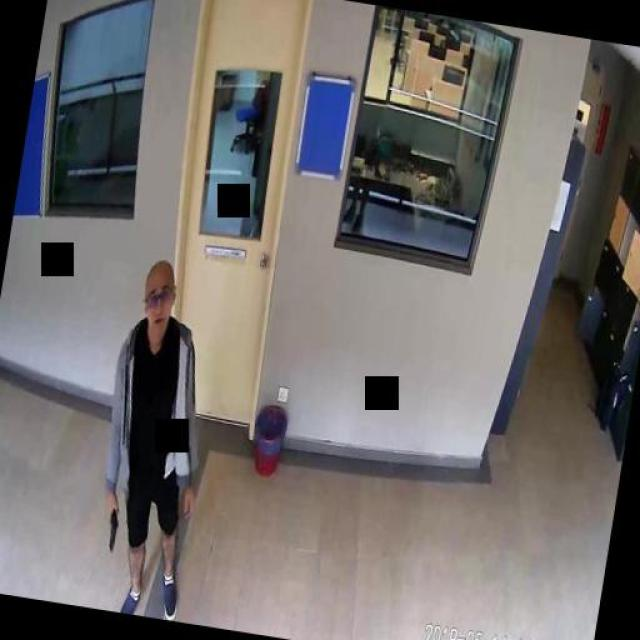gun: (100, 501, 119, 549)
